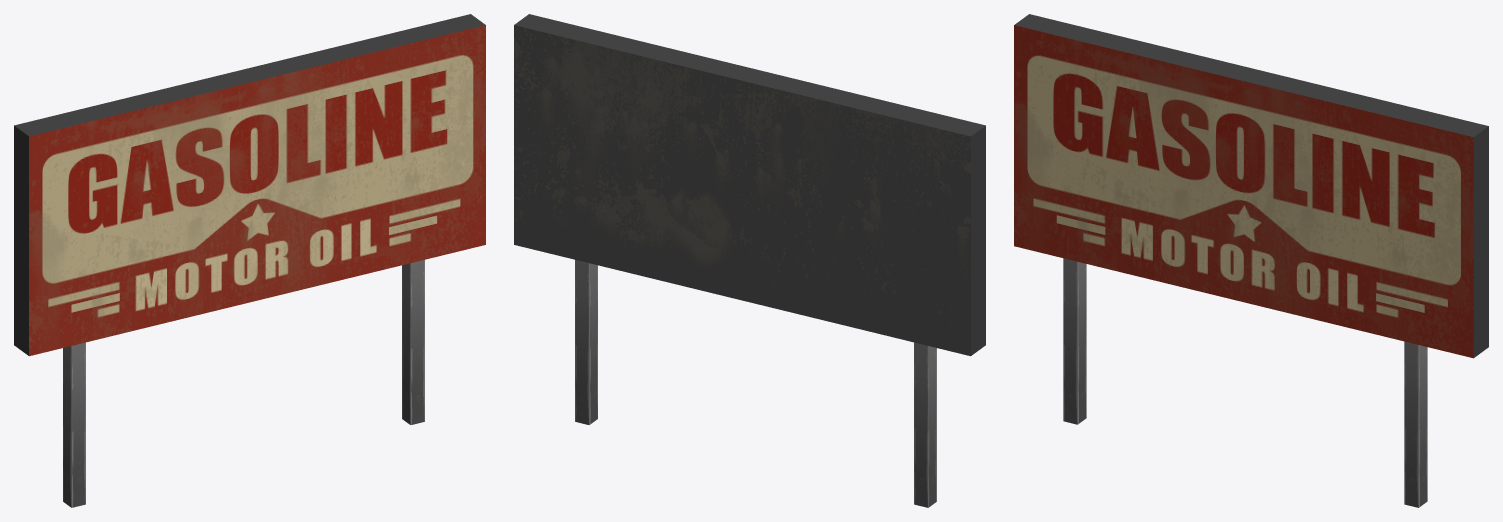
File: sign_board_B.fbx
3 renders of one model, left to right at view 1: azimuth 30°, elevation 25°; view 2: azimuth 150°, elevation 25°; view 3: azimuth 330°, elevation 25°, orthographic.
Visible parts, largest first — view 1: sign_board_B; view 2: sign_board_B; view 3: sign_board_B.
Boxes of the visible parts, bbox=[...] form: sign_board_B: bbox=[14, 14, 485, 507]; sign_board_B: bbox=[514, 14, 985, 507]; sign_board_B: bbox=[1014, 14, 1488, 507].
Size of the model in its own units: 292 by 235 by 16.75.
